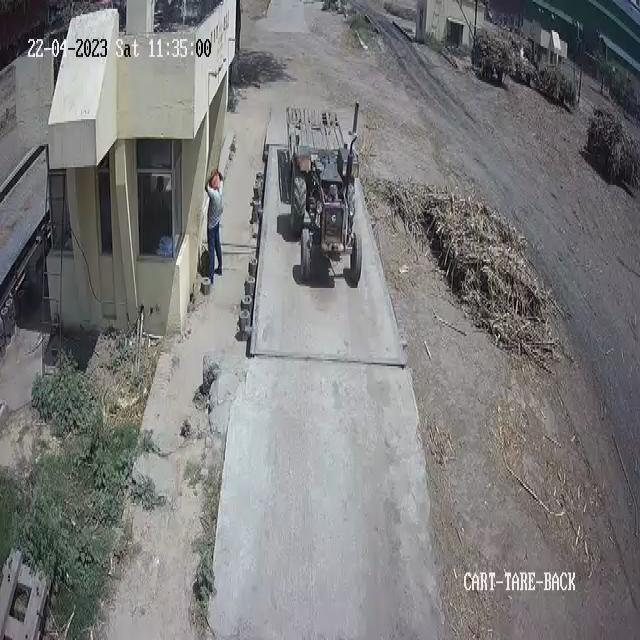Tratores - v5 YOLO V8L 2024-11-13: (289, 144, 364, 306)
